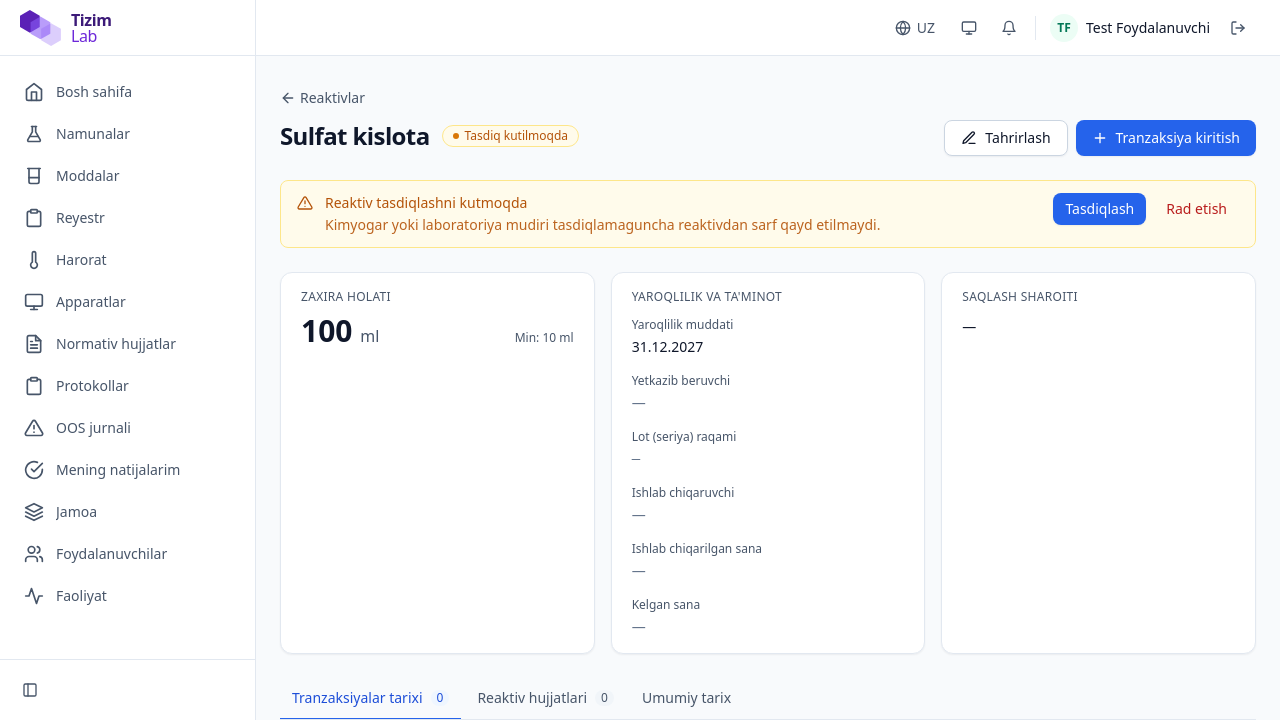
Test: P16: reaktiv tasdiqlash (UI) › tasdiqlanmagan reaktivda sarf (out) bloklanadi: ogohlantirish va Saqlash o‘chiq
Click the button "Tranzaksiya kiritish": (1166, 138) [1076,120,1256,156]
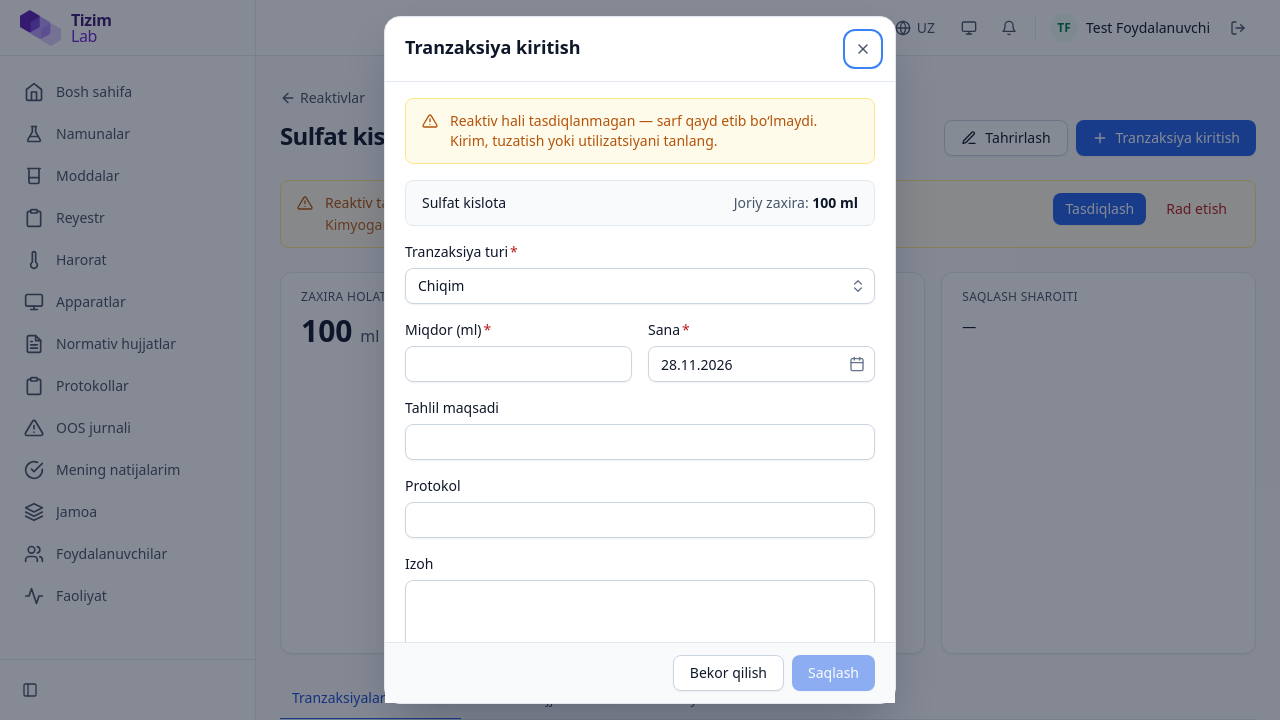
Now the text "Reaktiv hali tasdiqlanmagan" is shown, box [450,111,817,150]
Now the button "Saqlash" is disabled, box [792,655,875,691]
